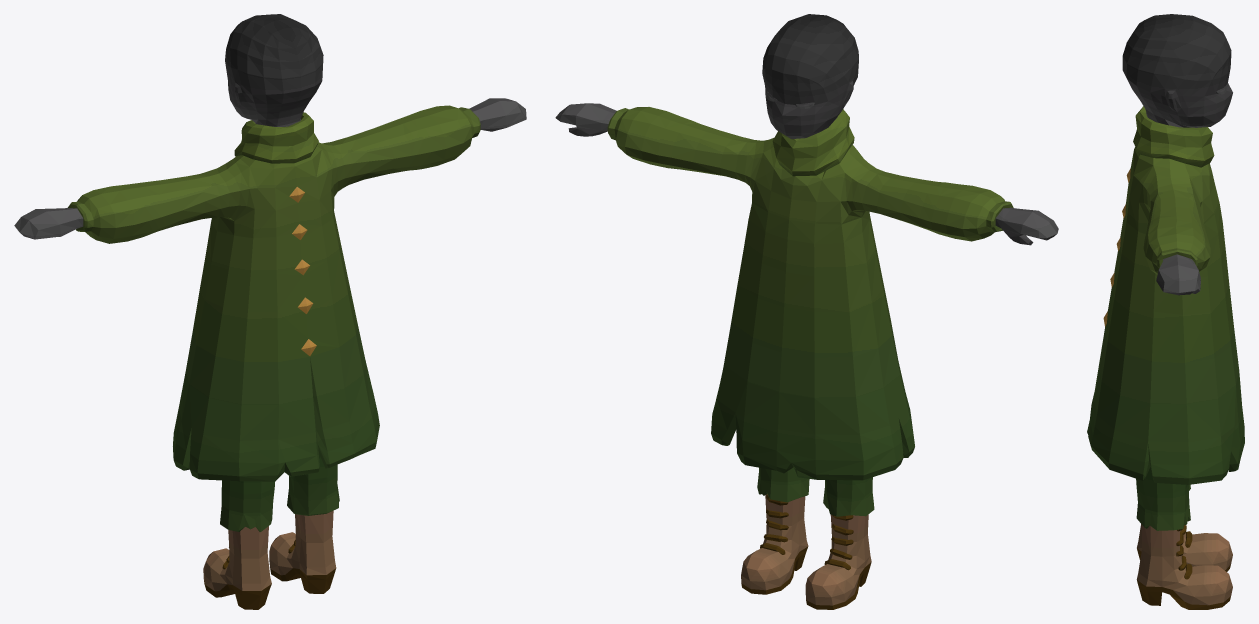
Rendered from CharSkyKid_Body_AP24Triangle.glb.
3 views of the same model, side by side, from view 1: azimuth 30°, elevation 25°; view 2: azimuth 150°, elevation 25°; view 3: azimuth 270°, elevation 25° (orthographic).
Parts seen in each view (by area): view 1: CharSkyKid_Body_AP24Triangle; view 2: CharSkyKid_Body_AP24Triangle; view 3: CharSkyKid_Body_AP24Triangle.
Boxes of the visible parts, x1,y1,x2,y2 form: CharSkyKid_Body_AP24Triangle: [14, 14, 526, 609]; CharSkyKid_Body_AP24Triangle: [555, 14, 1058, 609]; CharSkyKid_Body_AP24Triangle: [1087, 14, 1244, 609].
Bounding box in the file's own units: 13.85 × 14.91 × 3.77.
Materials: 1 (1 with a texture image).
